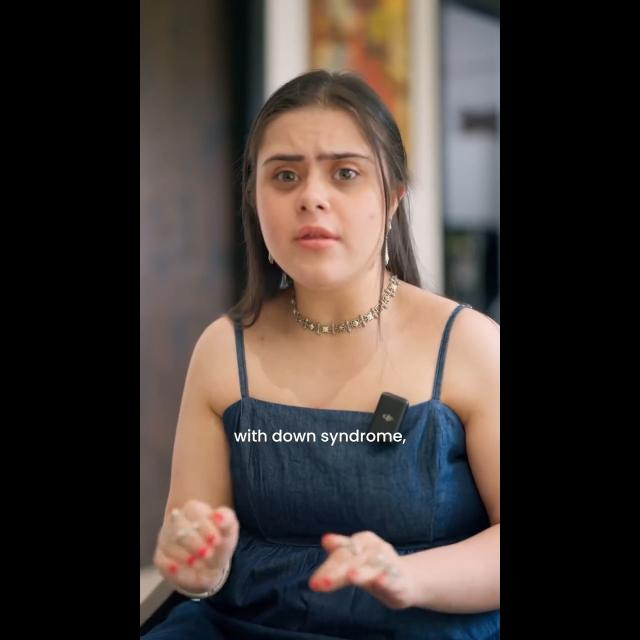dress: (223, 312, 461, 636)
ear ring: (381, 219, 395, 275)
